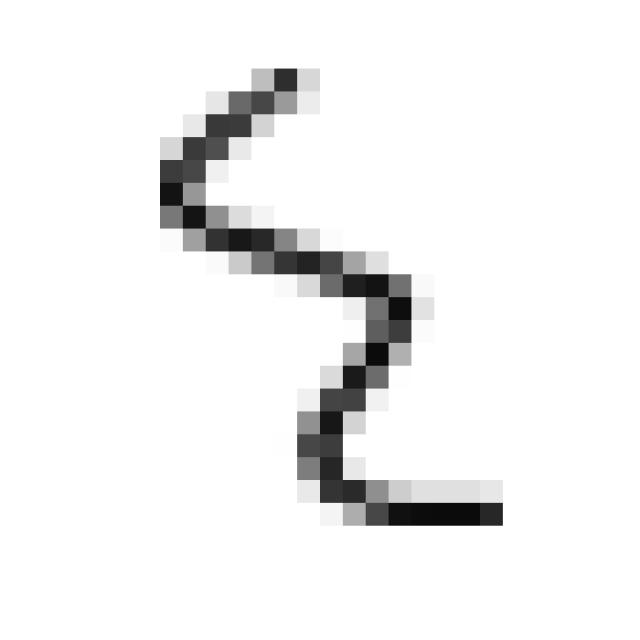4 -four-: (135, 55, 521, 554)
